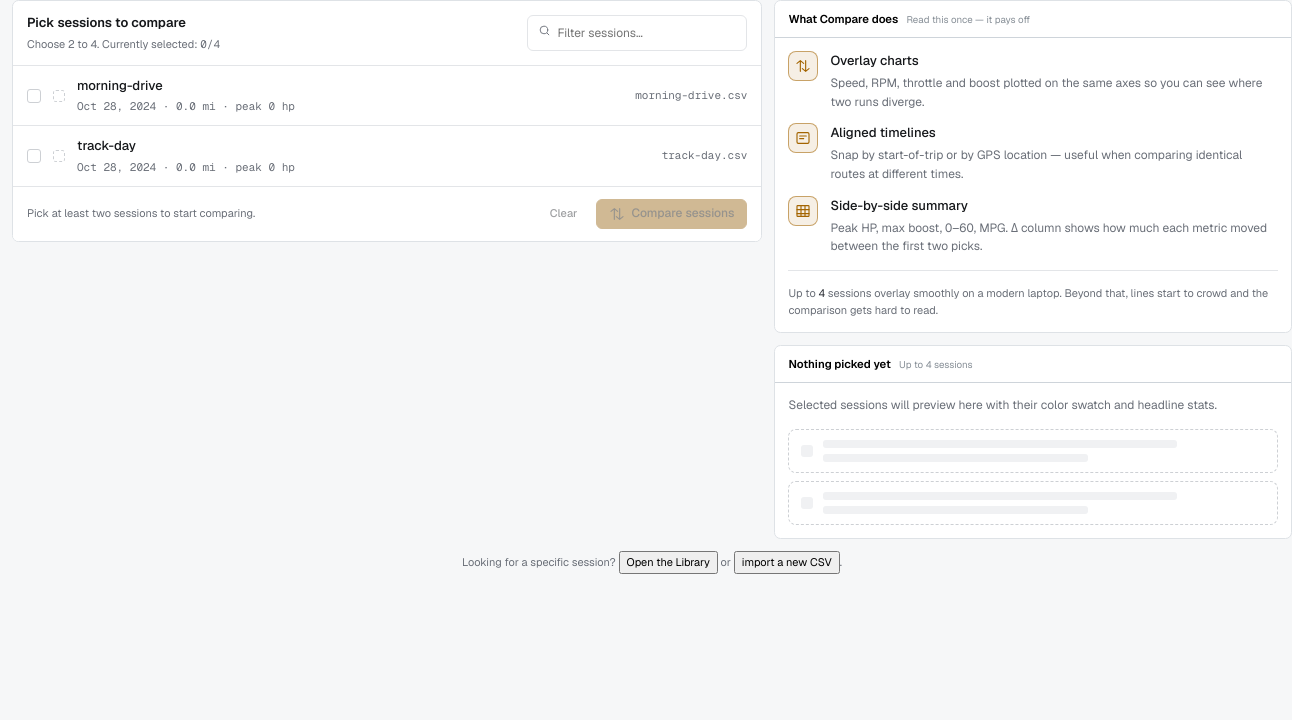
Scenario: pages/compare-logs/pick-stage › search filters the list
Type "morning" into the field with test id "picker-search" at (647, 33), box x1=557 y1=20 x2=736 y2=46
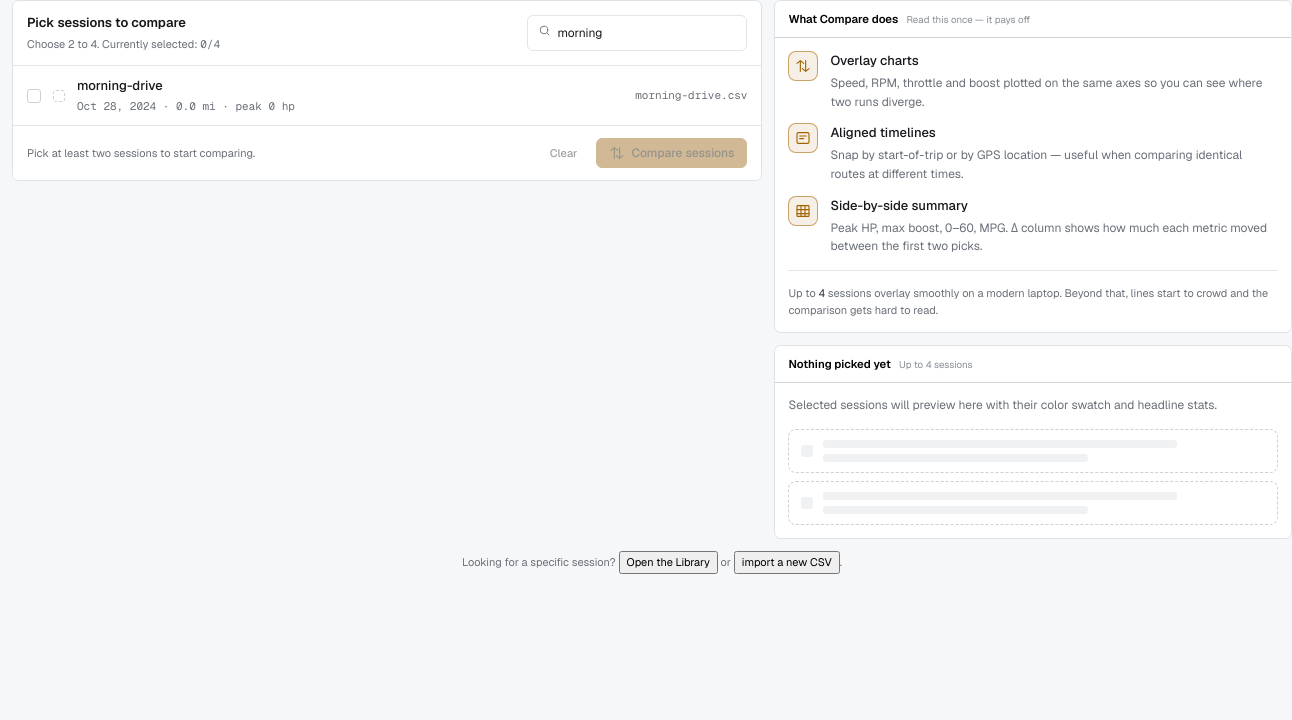
Expected: the button with test id "picker-row-s_1" is shown, x1=13 y1=66 x2=761 y2=125
Now the button with test id "picker-row-s_2" is gone
